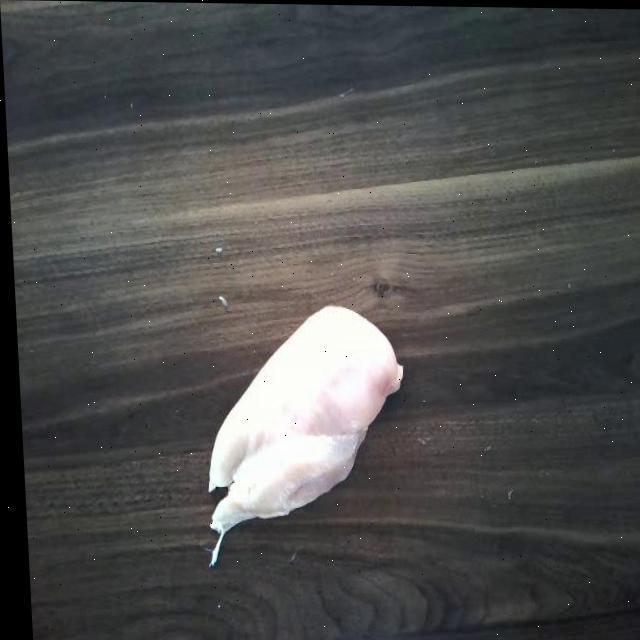breast: (198, 294, 416, 531)
